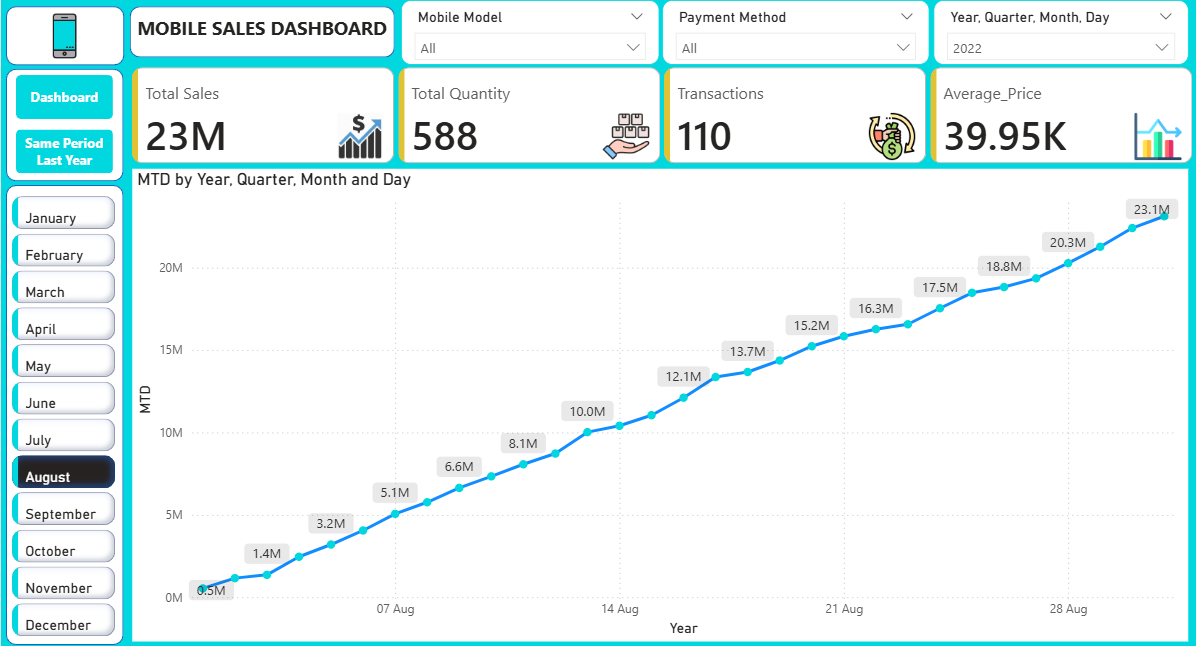

What the dashboard file says about the page in this screenshot:
{"tool":"powerbi","page":{"name":"MTD Report","canvas":[1200,650],"ordinal":1},"visuals":[{"type":"shape","box":[4.8,6,118.2,59.1],"z":0},{"type":"shape","box":[5,68.8,117.5,112.5],"z":1000},{"type":"image","box":[30.2,8.4,67.6,54.3],"z":2000},{"type":"cardVisual","fields":{"Data":["_measures.Total Sales","_measures.Total Quantity","_measures.Transactions","_measures.Average_Price"]},"box":[126.2,62.5,1073.8,106.2],"z":3000},{"type":"slicer","fields":{"Values":["Sales Data.Mobile Model"]},"box":[400,0,258.8,65],"z":4000},{"type":"slicer","fields":{"Values":["Sales Data.Payment Method"]},"box":[661.2,0,267.5,65],"z":5000},{"type":"slicer","fields":{"Values":["custom_calander.Date.Variation.Date Hierarchy.Year","custom_calander.Date.Variation.Date Hierarchy.Quarter","custom_calander.Date.Variation.Date Hierarchy.Month","custom_calander.Date.Variation.Date Hierarchy.Day"]},"box":[932.5,0,255,65],"z":6000},{"type":"lineChart","fields":{"Category":["custom_calander.Date.Variation.Date Hierarchy.Year","custom_calander.Date.Variation.Date Hierarchy.Quarter","custom_calander.Date.Variation.Date Hierarchy.Month","custom_calander.Date.Variation.Date Hierarchy.Day"],"Y":["_measures.MTD"]},"box":[131.2,168.8,1056.2,472.5],"z":7000},{"type":"shape","box":[5,185,117.5,460],"z":8000},{"type":"advancedSlicerVisual","fields":{"Values":["custom_calander.Date.Variation.Date Hierarchy.Month"]},"box":[6.2,191.2,113.8,450],"z":9000},{"type":"pageNavigator","box":[15,75,97.5,98.8],"z":10000},{"type":"shape","box":[128.8,6.2,265,51.2],"z":11000},{"type":"textbox","box":[131.2,10,265,43.8],"z":12000}]}

Visuals, with their boxes in screenshot pixels (x1, y1, x2, y2), scaled from the page's 1200x650 canvas onto the 1196x646 screenshot:
shape: box=[5, 6, 123, 65]
shape: box=[5, 68, 122, 180]
image: box=[30, 8, 97, 62]
cardVisual - _measures.Total Sales x _measures.Total Quantity: box=[126, 62, 1195, 168]
slicer - Sales Data.Mobile Model: box=[399, 0, 657, 65]
slicer - Sales Data.Payment Method: box=[659, 0, 926, 65]
slicer - custom_calander.Date.Variation.Date Hierarchy.Year x custom_calander.Date.Variation.Date Hierarchy.Quarter: box=[929, 0, 1184, 65]
lineChart - custom_calander.Date.Variation.Date Hierarchy.Year x custom_calander.Date.Variation.Date Hierarchy.Quarter: box=[131, 168, 1183, 637]
shape: box=[5, 184, 122, 641]
advancedSlicerVisual - custom_calander.Date.Variation.Date Hierarchy.Month: box=[6, 190, 120, 637]
pageNavigator: box=[15, 75, 112, 173]
shape: box=[128, 6, 392, 57]
textbox: box=[131, 10, 395, 53]
